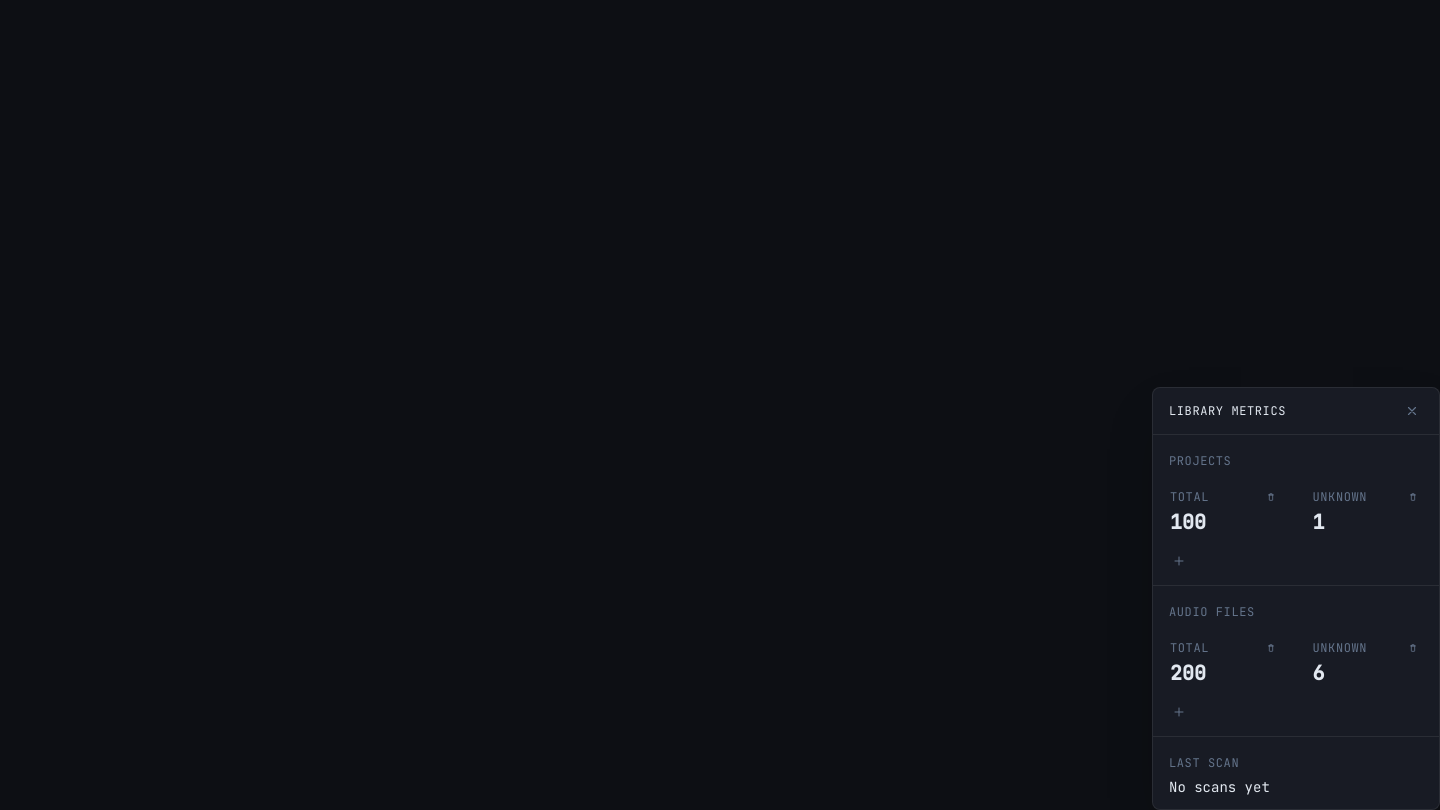
Test: MetricsPanel - add flow › adds a status metric and renders its tile with the correct count
(page scrolled)
Click the button named "Add metric to Projects" at (1179,561), box [1169, 553, 1189, 569]
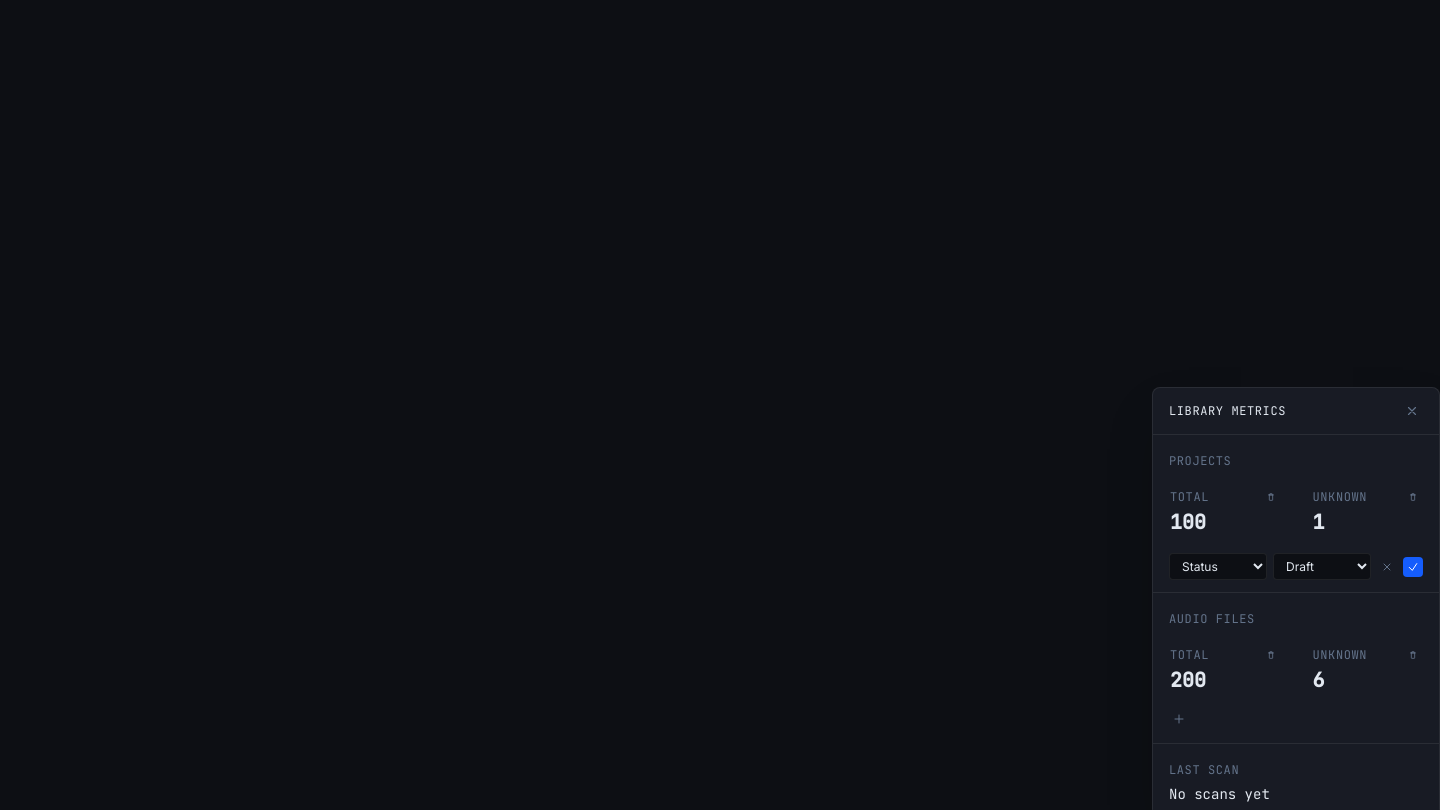
Select "Status" in the dropdown named "New Projects metric type" at (1218,566), box [1169, 553, 1267, 580]
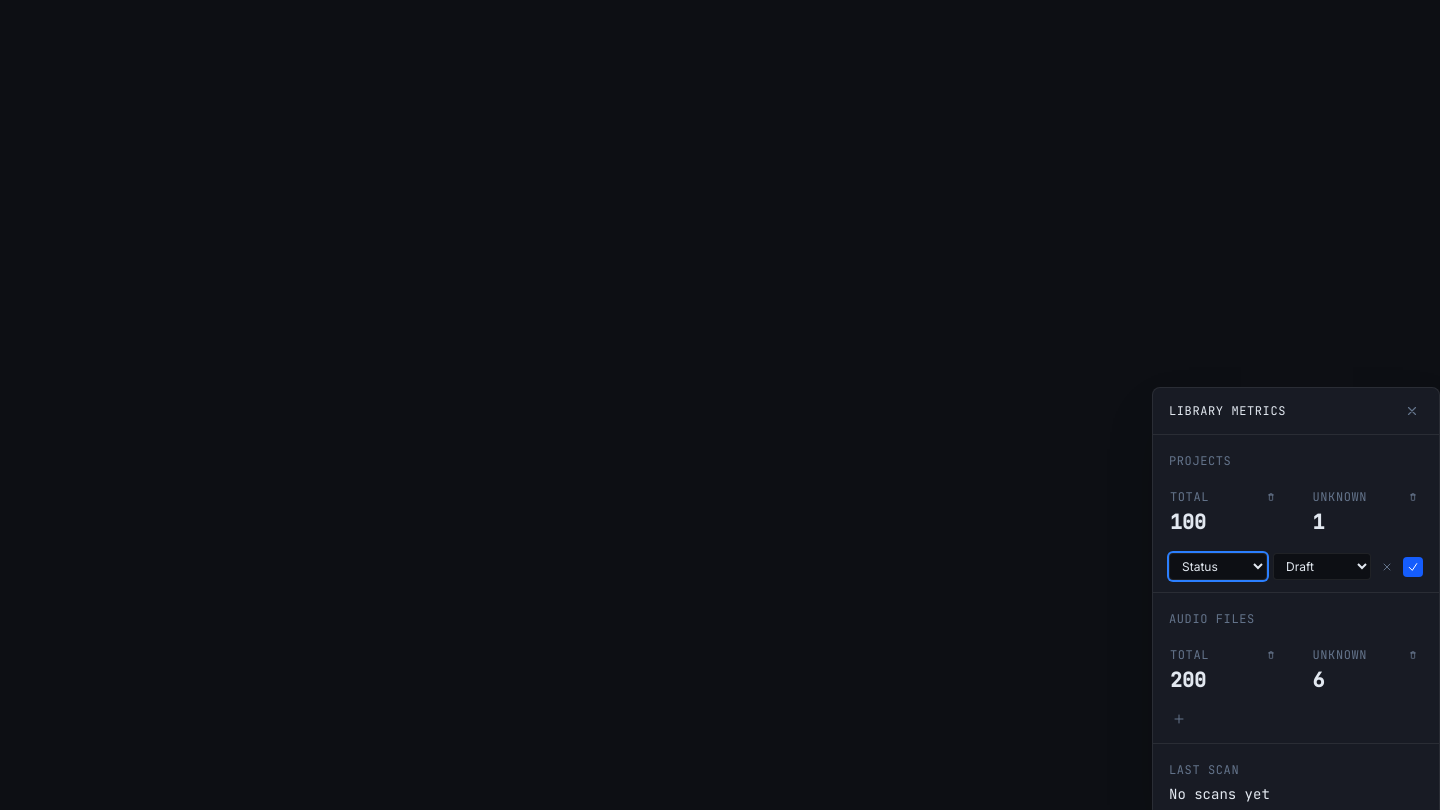
Select "Done" in the dropdown named "New Projects metric value" at (1322,566), box [1273, 553, 1371, 580]
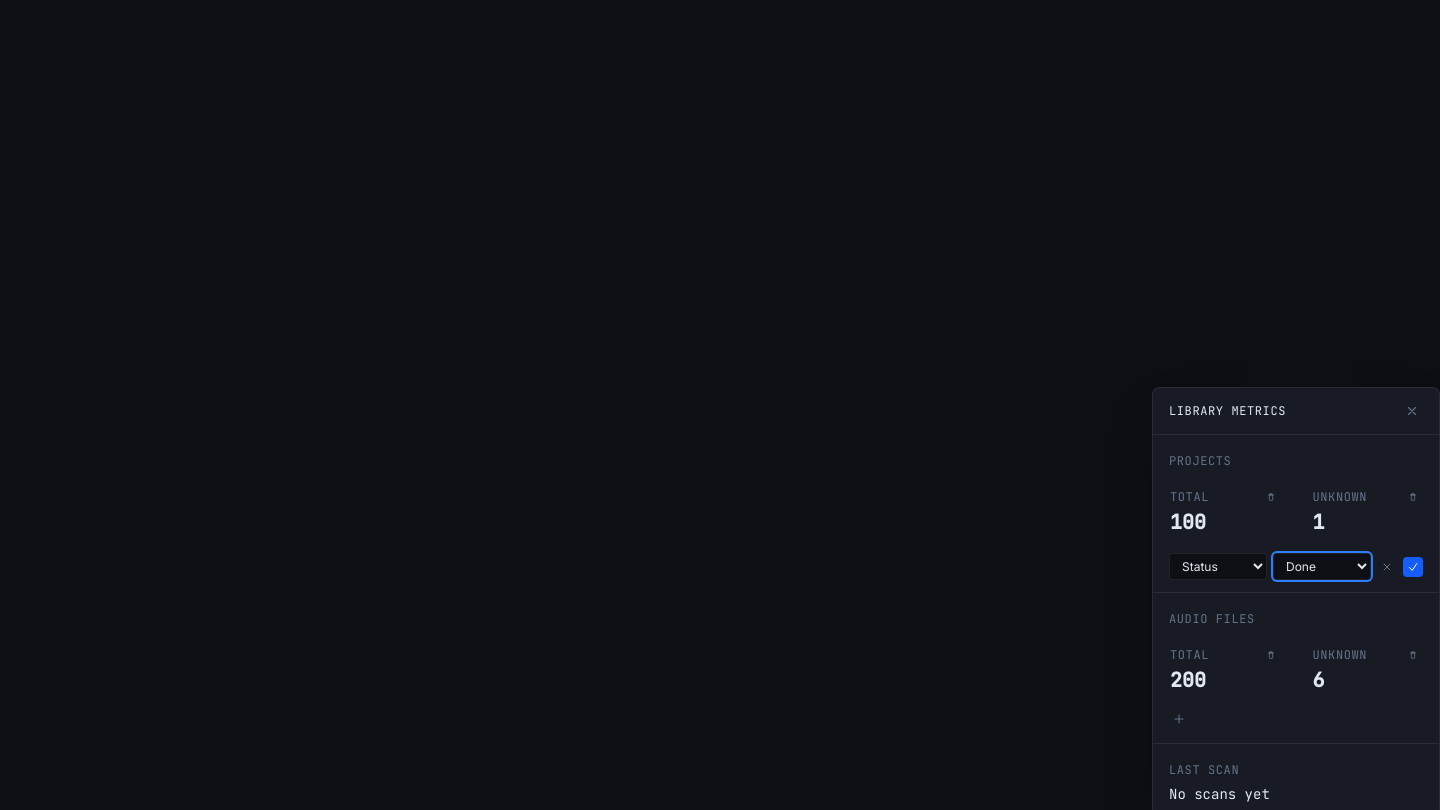
Click the button named "Confirm adding Projects metric" at (1413,566), box [1403, 556, 1423, 576]
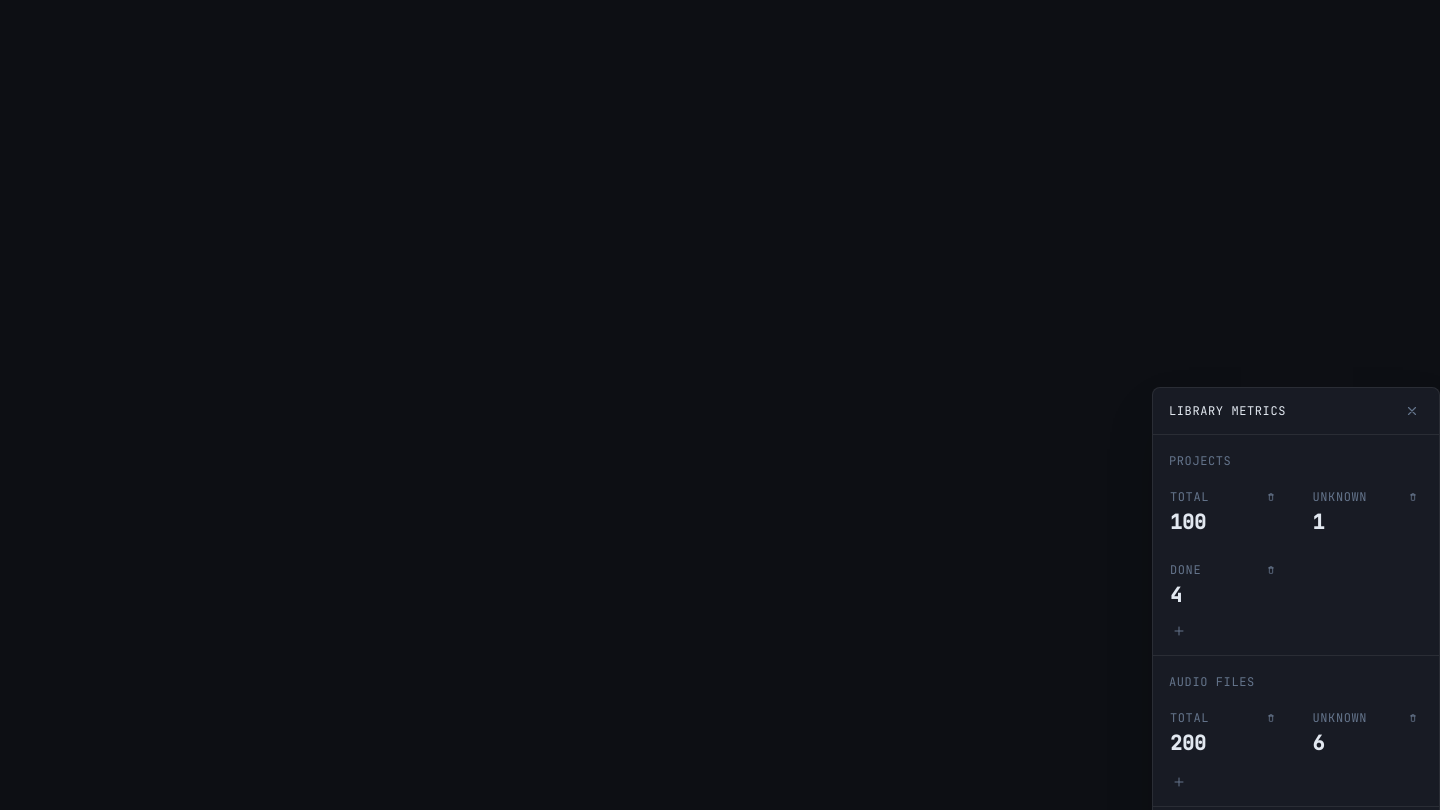
Expected: the text "Done" is shown, [1170, 562, 1201, 578]
Expected: the text "4" is shown, [1170, 582, 1182, 608]
